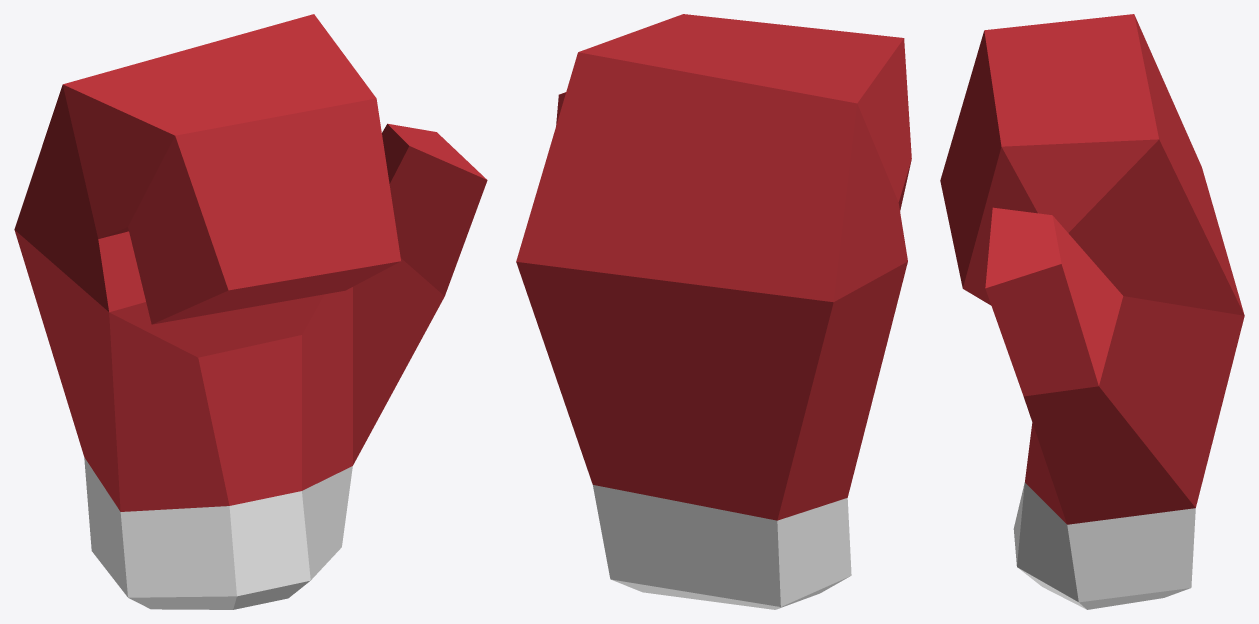
Rendered from sport-box-glove.glb.
3 views of the same model, side by side, from view 1: azimuth 30°, elevation 25°; view 2: azimuth 150°, elevation 25°; view 3: azimuth 270°, elevation 25° (orthographic). The views are drawn at different scales.
Visible parts, largest first — view 1: box-glove; view 2: box-glove; view 3: box-glove.
Part boxes in pixels (x1,y1,x2,y2): box-glove: [14, 14, 487, 609]; box-glove: [516, 14, 911, 609]; box-glove: [940, 14, 1244, 609].
Bounding box in the file's own units: 0.1946 × 0.272 × 0.152.
